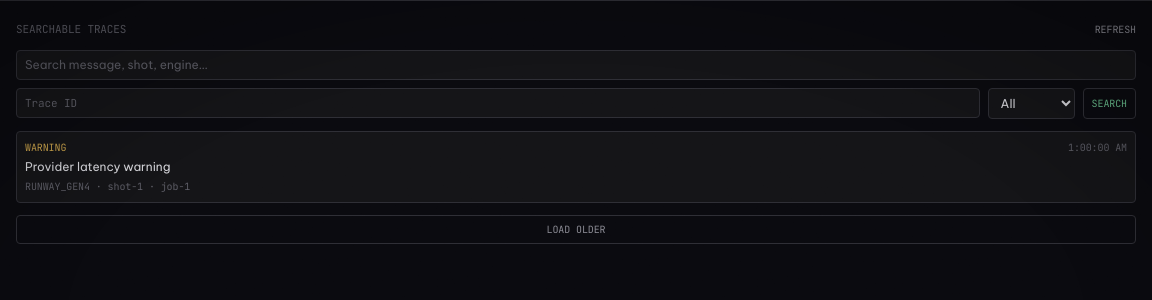
Test: TraceConsole › searches within the current project and pages older safe trace events
Check: the text "Provider latency warning" is shown, box [25,158,170,174]
Type "recovery" into the search field named "Search trace messages and fields" at (576,64), box [16,50,1136,80]
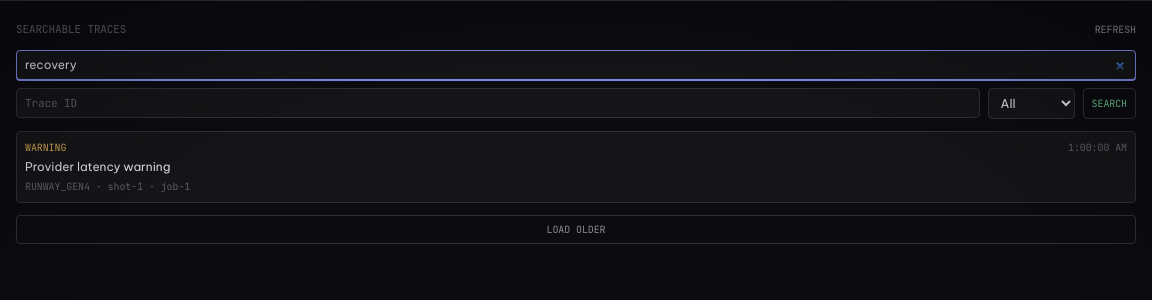
Select "Warning" in the dropdown named "Trace level" at (1031,103), box [988,88,1075,118]
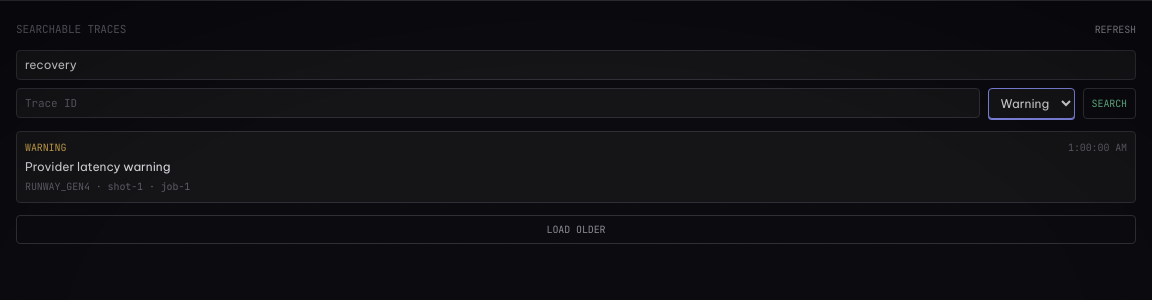
Click the button "Search" at (1109,103), box [1083,88,1136,118]
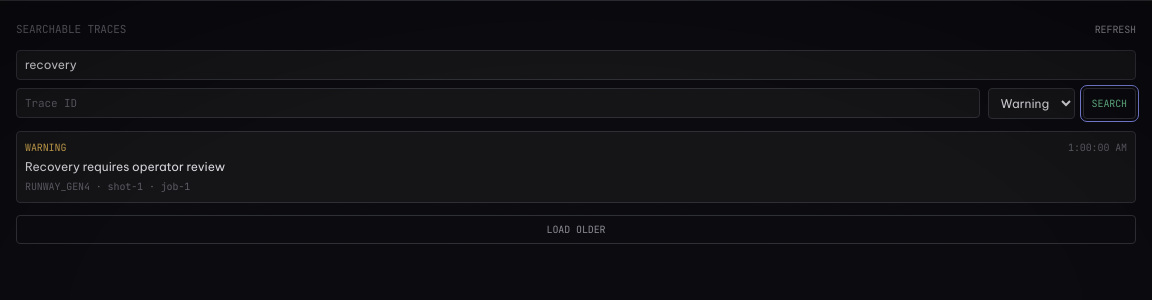
Check: the text "Recovery requires operator review" is shown, box [25,158,225,174]
Click the button "Load older" at (576,229), box [16,214,1136,244]
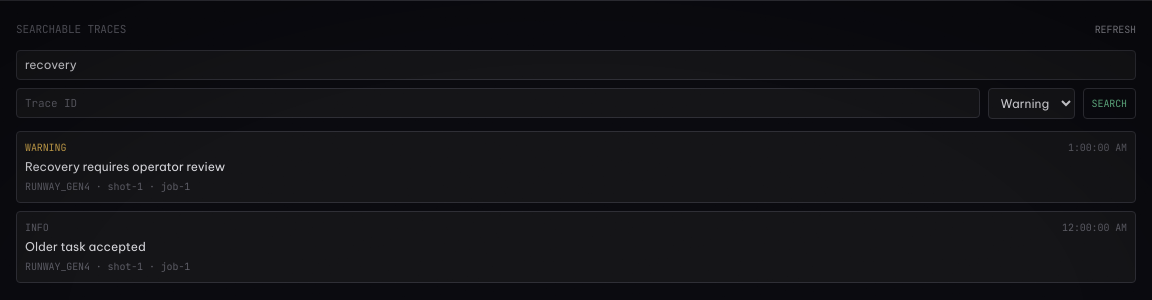
Check: the text "Recovery requires operator review" is shown, box [25,158,225,174]
Check: the text "Older task accepted" is shown, box [25,238,146,254]
